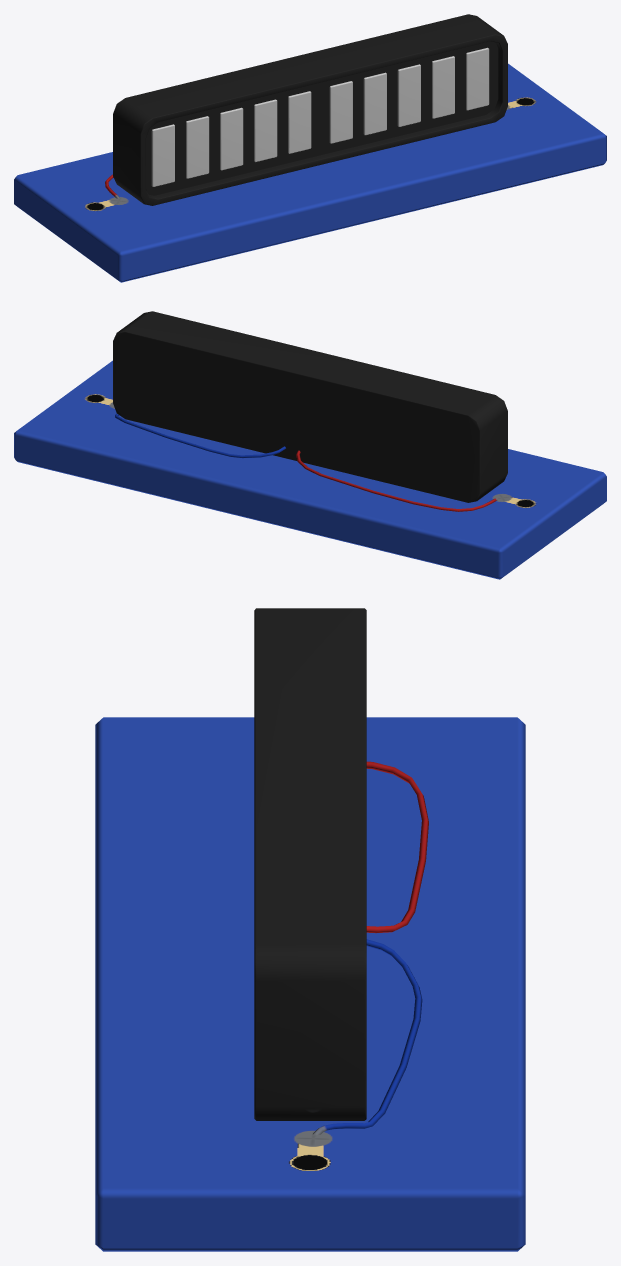
The model's file is Indicator.fbx.
3 renders of one model, top to bottom at view 1: azimuth 30°, elevation 25°; view 2: azimuth 150°, elevation 25°; view 3: azimuth 270°, elevation 25°, orthographic. The views are drawn at different scales.
Parts seen in each view (by area): view 1: Indicator, +1, +5, +3, +2, +4; view 2: Indicator; view 3: Indicator.
Part boxes in pixels (bbox=[...]): Indicator: bbox=[14, 14, 606, 282]; +1: bbox=[329, 81, 352, 143]; +5: bbox=[466, 47, 489, 110]; +3: bbox=[397, 64, 420, 126]; +2: bbox=[363, 72, 386, 135]; +4: bbox=[432, 56, 454, 118]; Indicator: bbox=[14, 311, 606, 579]; Indicator: bbox=[95, 608, 525, 1251].
Size of the model in its own units: 11.96 by 2.8 by 4.56.
